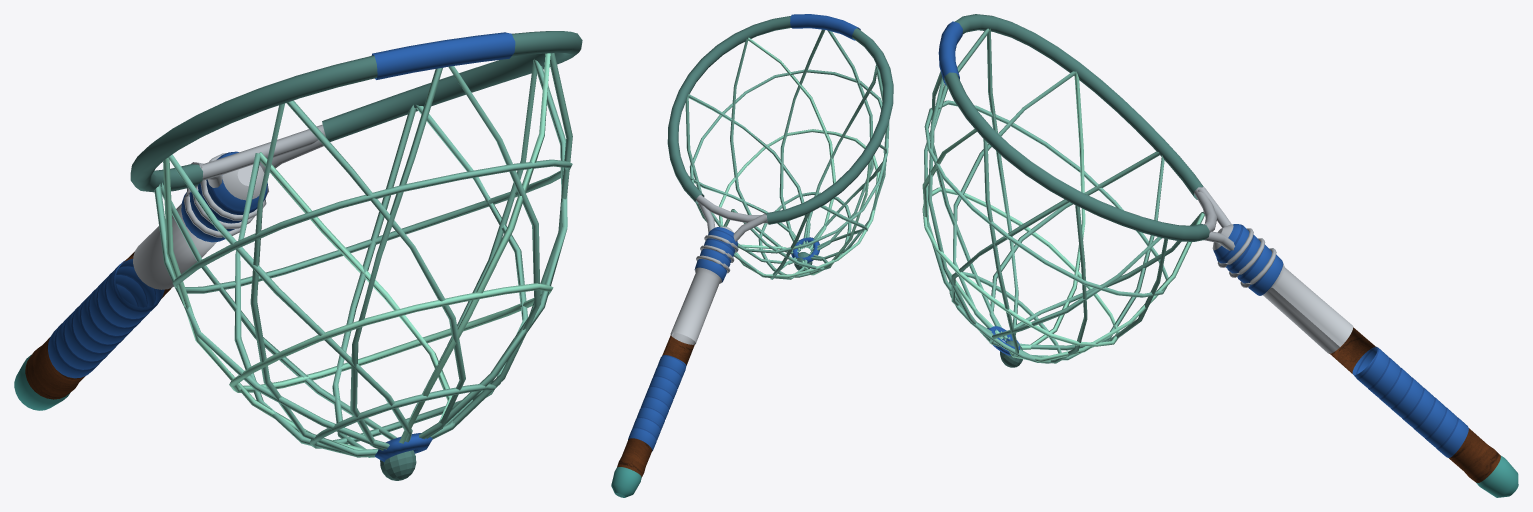
The model's file is weapon_net_90s.glb.
The picture shows the model from 3 angles, left to right: view 1: azimuth 30°, elevation 25°; view 2: azimuth 150°, elevation 25°; view 3: azimuth 270°, elevation 25°; orthographic projection. The views are drawn at different scales.
Parts seen in each view (by area): view 1: MopHandle; view 2: MopHandle; view 3: MopHandle.
Boxes of the visible parts, x1,y1,x2,y2 form: MopHandle: (14, 31, 582, 480); MopHandle: (611, 14, 893, 497); MopHandle: (922, 14, 1518, 497).
Size of the model in its own units: 0.2228 by 0.3484 by 0.4145.
Materials: 9 (1 with a texture image).
